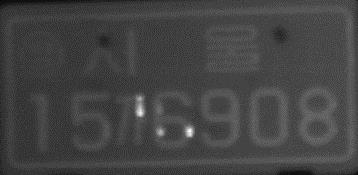0: (247, 82, 291, 150)
1: (24, 89, 58, 157)
5: (69, 88, 113, 155)
6: (150, 87, 194, 154)
8: (295, 84, 339, 148)
9: (196, 85, 244, 154)
가: (111, 89, 150, 151)
서울_D: (79, 21, 261, 84)
영: (18, 28, 67, 80)
